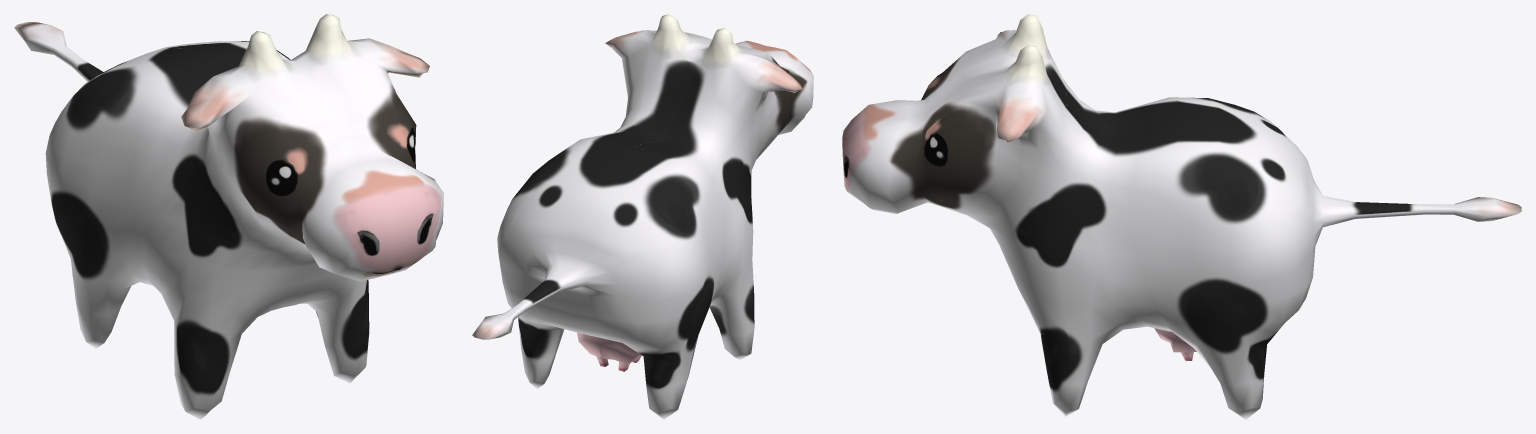
File: Vaquinha.fbx
The picture shows the model from 3 angles, left to right: view 1: azimuth 30°, elevation 25°; view 2: azimuth 150°, elevation 25°; view 3: azimuth 270°, elevation 25°; orthographic projection. The views are drawn at different scales.
Visible parts, largest first — view 1: Cube; view 2: Cube; view 3: Cube.
Part boxes in pixels (box(x1,y1,x2,y2)): Cube: box(14, 14, 443, 419); Cube: box(472, 14, 813, 419); Cube: box(842, 14, 1521, 419).
Bounding box in the file's own units: 223 × 342 × 592.
